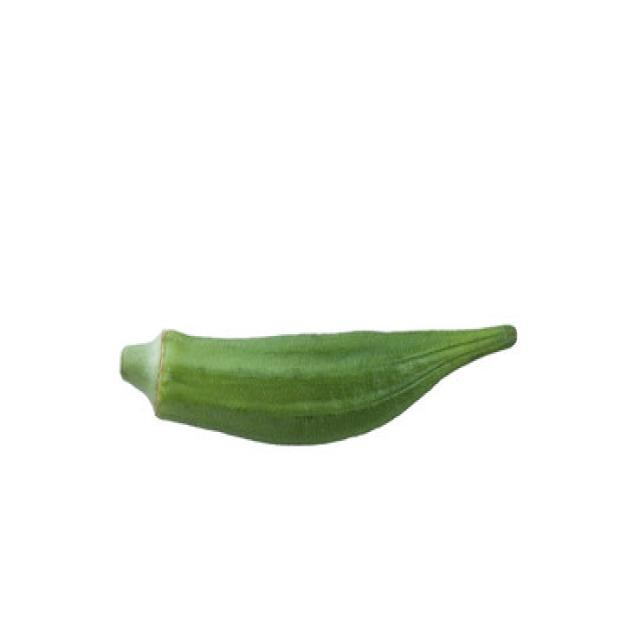Okra: (118, 322, 517, 446)
